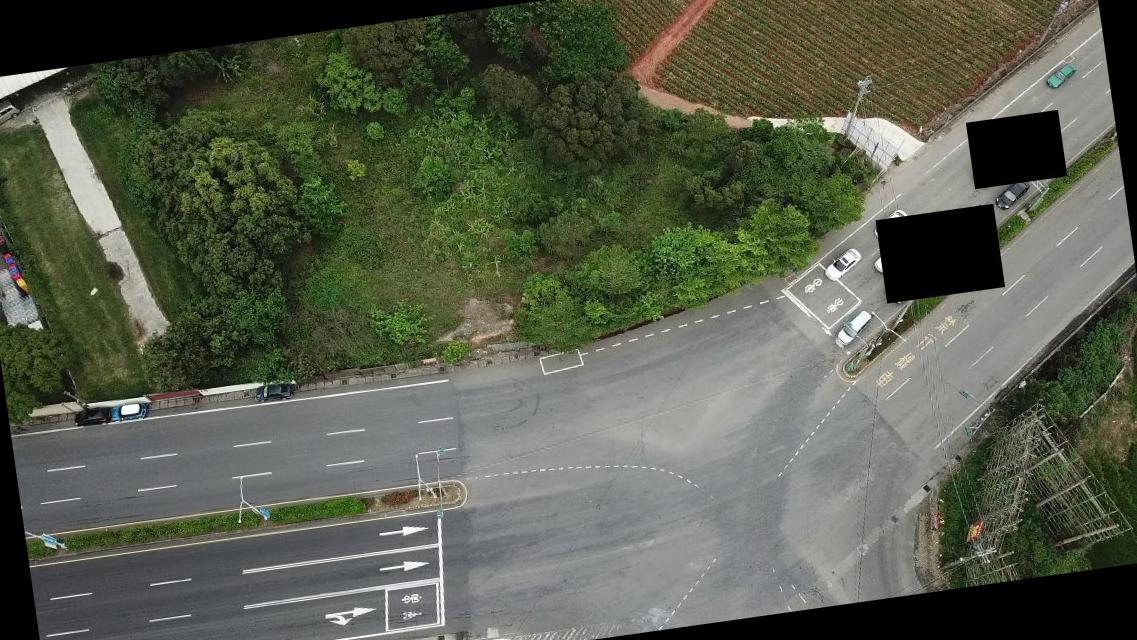vehicle: (830, 308, 876, 349), (820, 246, 864, 284), (872, 238, 914, 274), (992, 176, 1034, 210), (870, 208, 911, 242), (72, 404, 113, 430), (108, 401, 150, 426), (1044, 61, 1078, 90), (255, 381, 294, 405), (0, 98, 23, 132)
